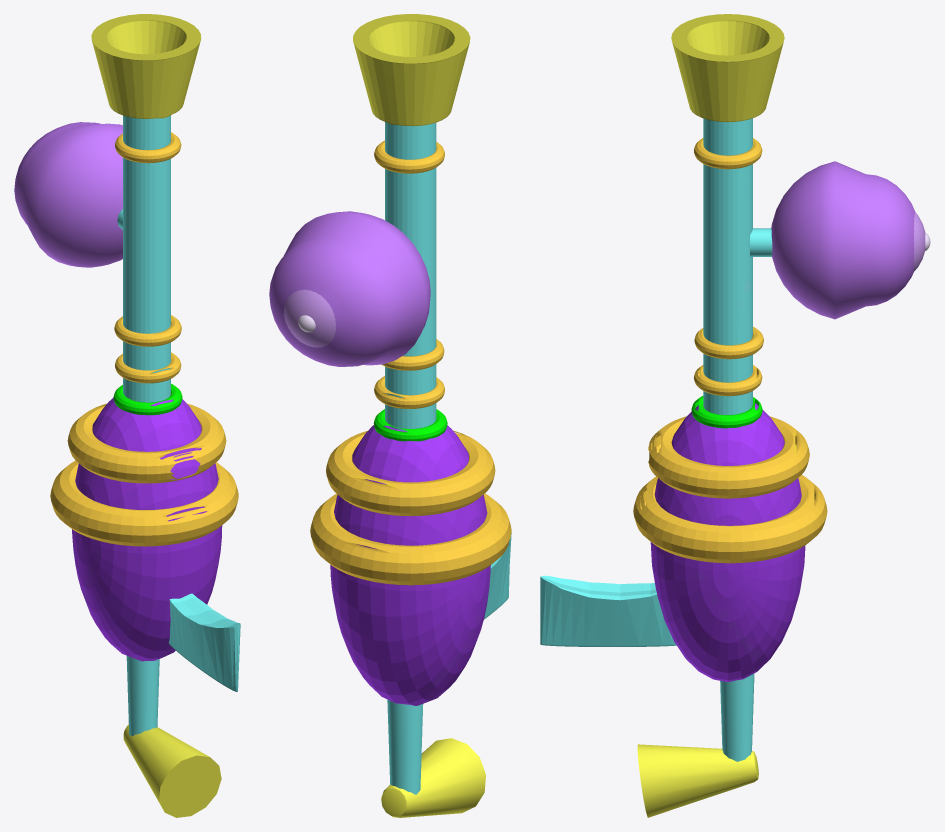
File: lanzacaramelos.obj
The picture shows the model from 3 angles, left to right: view 1: azimuth 30°, elevation 25°; view 2: azimuth 150°, elevation 25°; view 3: azimuth 270°, elevation 25°; orthographic projection. The views are drawn at different scales.
Visible parts, largest first — view 1: lanzacaramelos:default2; view 2: lanzacaramelos:default2; view 3: lanzacaramelos:default2.
Part boxes in pixels (x1,y1,x2,y2): lanzacaramelos:default2: (14, 14, 240, 817); lanzacaramelos:default2: (269, 14, 511, 817); lanzacaramelos:default2: (540, 14, 930, 817).
Size of the model in its own units: 0.2117 by 0.9324 by 0.4251.
1 material, 1 textured.
